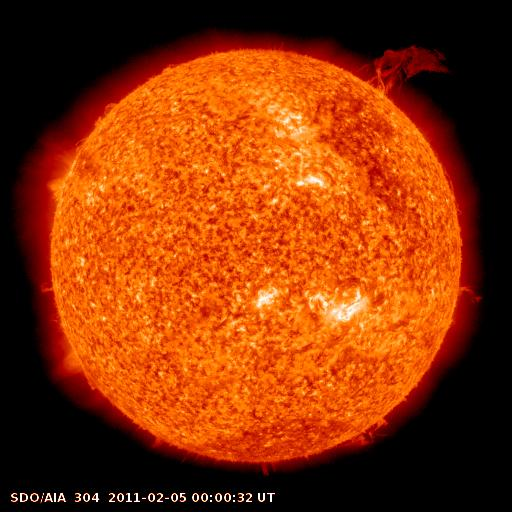prominence: (341, 34, 457, 100), (66, 85, 131, 153), (330, 405, 407, 460), (435, 270, 495, 314), (43, 173, 71, 208)
